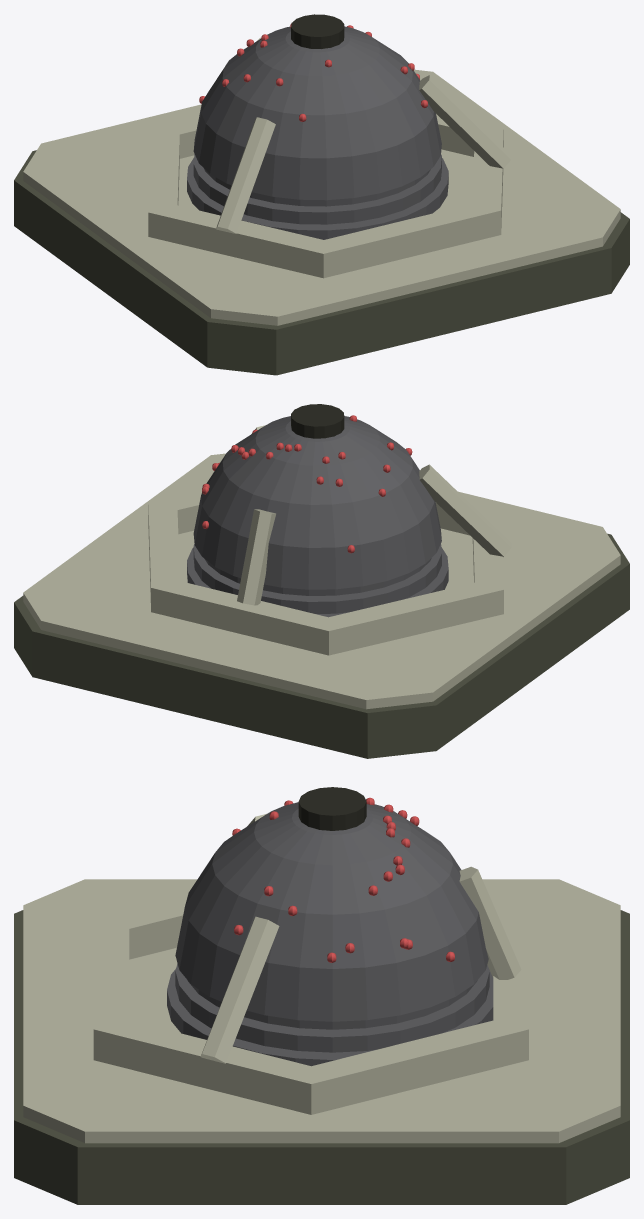
Rendered from vge_mech_signal_jammer.obj.
3 views of the same model, one above another, from view 1: azimuth 30°, elevation 25°; view 2: azimuth 150°, elevation 25°; view 3: azimuth 270°, elevation 25° (orthographic). The views are drawn at different scales.
Visible parts, largest first — view 1: vge_mech_signal_jammer_1, vge_mech_signal_jammer_0, vge_mech_signal_jammer_11, vge_mech_signal_jammer_6, vge_mech_signal_jammer_5, vge_mech_signal_jammer_9, vge_mech_signal_jammer_8, vge_mech_signal_jammer_41, vge_mech_signal_jammer_40, vge_mech_signal_jammer_4, vge_mech_signal_jammer_12, vge_mech_signal_jammer_7 (+3 smaller); view 2: vge_mech_signal_jammer_1, vge_mech_signal_jammer_0, vge_mech_signal_jammer_11, vge_mech_signal_jammer_4, vge_mech_signal_jammer_3, vge_mech_signal_jammer_9, vge_mech_signal_jammer_40, vge_mech_signal_jammer_2, vge_mech_signal_jammer_39, vge_mech_signal_jammer_12, vge_mech_signal_jammer_5, vge_mech_signal_jammer_10 (+3 smaller); view 3: vge_mech_signal_jammer_1, vge_mech_signal_jammer_11, vge_mech_signal_jammer_0, vge_mech_signal_jammer_2, vge_mech_signal_jammer_7, vge_mech_signal_jammer_9, vge_mech_signal_jammer_41, vge_mech_signal_jammer_6, vge_mech_signal_jammer_8, vge_mech_signal_jammer_5, vge_mech_signal_jammer_39, vge_mech_signal_jammer_3 (+2 smaller).
Boxes of the visible parts, bbox=[...] form: vge_mech_signal_jammer_1: bbox=[23, 69, 620, 325]; vge_mech_signal_jammer_0: bbox=[14, 150, 629, 375]; vge_mech_signal_jammer_11: bbox=[193, 26, 441, 200]; vge_mech_signal_jammer_6: bbox=[323, 203, 501, 277]; vge_mech_signal_jammer_5: bbox=[148, 205, 323, 278]; vge_mech_signal_jammer_9: bbox=[193, 154, 441, 224]; vge_mech_signal_jammer_8: bbox=[187, 157, 448, 239]; vge_mech_signal_jammer_41: bbox=[419, 75, 511, 168]; vge_mech_signal_jammer_40: bbox=[216, 117, 275, 233]; vge_mech_signal_jammer_4: bbox=[148, 127, 179, 212]; vge_mech_signal_jammer_12: bbox=[291, 14, 344, 48]; vge_mech_signal_jammer_7: bbox=[472, 126, 503, 227]; vge_mech_signal_jammer_1: bbox=[23, 453, 620, 709]; vge_mech_signal_jammer_0: bbox=[14, 533, 629, 758]; vge_mech_signal_jammer_11: bbox=[193, 416, 441, 589]; vge_mech_signal_jammer_4: bbox=[328, 582, 503, 655]; vge_mech_signal_jammer_3: bbox=[151, 581, 328, 655]; vge_mech_signal_jammer_9: bbox=[193, 544, 441, 613]; vge_mech_signal_jammer_40: bbox=[419, 464, 511, 556]; vge_mech_signal_jammer_2: bbox=[148, 503, 179, 602]; vge_mech_signal_jammer_39: bbox=[237, 509, 275, 605]; vge_mech_signal_jammer_12: bbox=[291, 404, 344, 438]; vge_mech_signal_jammer_5: bbox=[472, 505, 503, 589]; vge_mech_signal_jammer_10: bbox=[205, 558, 431, 595]; vge_mech_signal_jammer_1: bbox=[23, 879, 620, 1143]; vge_mech_signal_jammer_11: bbox=[175, 802, 488, 1021]; vge_mech_signal_jammer_0: bbox=[14, 910, 629, 1204]; vge_mech_signal_jammer_2: bbox=[311, 1020, 528, 1114]; vge_mech_signal_jammer_7: bbox=[93, 1020, 311, 1114]; vge_mech_signal_jammer_9: bbox=[175, 963, 489, 1052]; vge_mech_signal_jammer_41: bbox=[200, 916, 279, 1063]; vge_mech_signal_jammer_6: bbox=[93, 920, 129, 1029]; vge_mech_signal_jammer_8: bbox=[167, 969, 493, 1066]; vge_mech_signal_jammer_5: bbox=[94, 896, 187, 959]; vge_mech_signal_jammer_39: bbox=[459, 866, 521, 979]; vge_mech_signal_jammer_3: bbox=[493, 920, 528, 1029].
Bounding box in the file's own units: 2.9 × 1.42 × 2.9.
